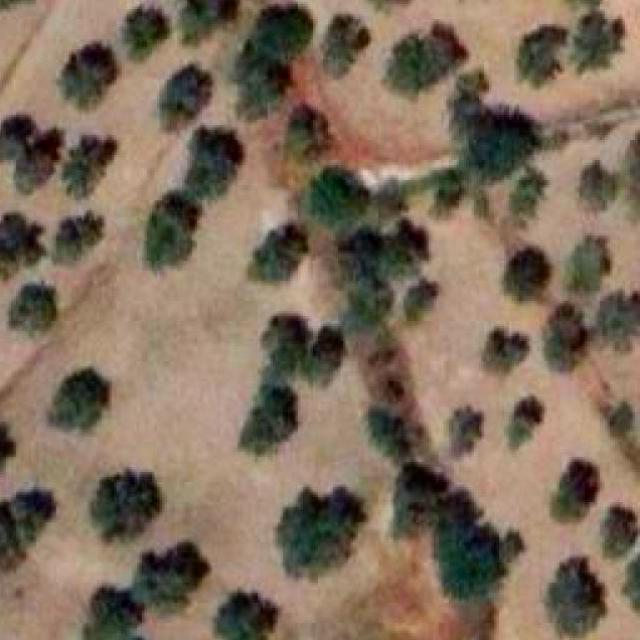Tree: (448, 70, 541, 182), (435, 491, 524, 601), (282, 487, 365, 579), (384, 22, 466, 95), (339, 225, 394, 331), (132, 542, 210, 611), (239, 0, 315, 68), (544, 557, 605, 638), (90, 469, 159, 539), (144, 193, 202, 270), (0, 492, 55, 569), (238, 385, 298, 455), (57, 42, 117, 110), (183, 130, 243, 198), (394, 462, 449, 535), (48, 369, 109, 432), (307, 168, 370, 226), (247, 223, 308, 282), (60, 135, 117, 197), (569, 12, 625, 75), (234, 54, 288, 119), (159, 64, 209, 132), (84, 587, 144, 640), (262, 314, 313, 375), (323, 14, 371, 78), (215, 592, 278, 640), (0, 213, 45, 278), (15, 130, 61, 193), (550, 460, 597, 521), (516, 27, 562, 89), (499, 163, 550, 217), (596, 290, 640, 352), (565, 235, 610, 294), (284, 103, 330, 160), (477, 324, 526, 377), (181, 0, 241, 43), (52, 213, 102, 264), (503, 248, 550, 302), (8, 284, 56, 335), (124, 7, 169, 60), (304, 326, 345, 384), (370, 406, 411, 462), (600, 505, 638, 558), (578, 159, 616, 211), (545, 301, 588, 343), (447, 406, 481, 458), (0, 115, 36, 160), (512, 396, 542, 449), (392, 218, 428, 260), (435, 168, 464, 214), (542, 336, 578, 372), (408, 279, 436, 321), (607, 402, 632, 436), (0, 425, 16, 472)
